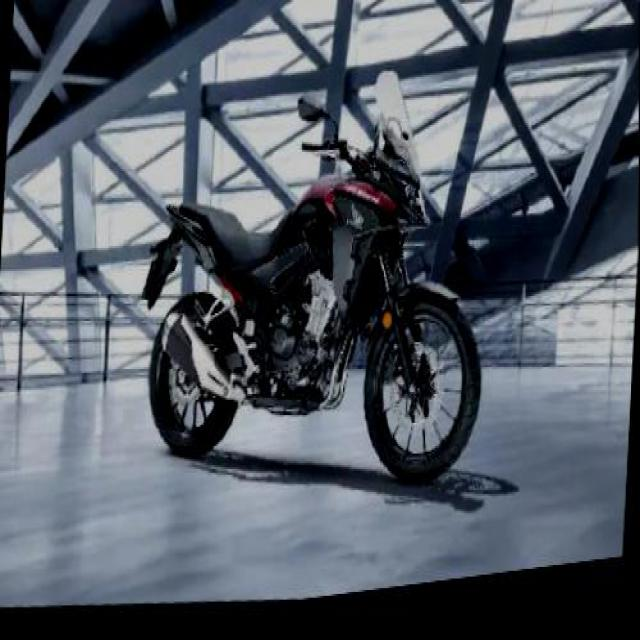CB500X: (139, 42, 500, 532)
